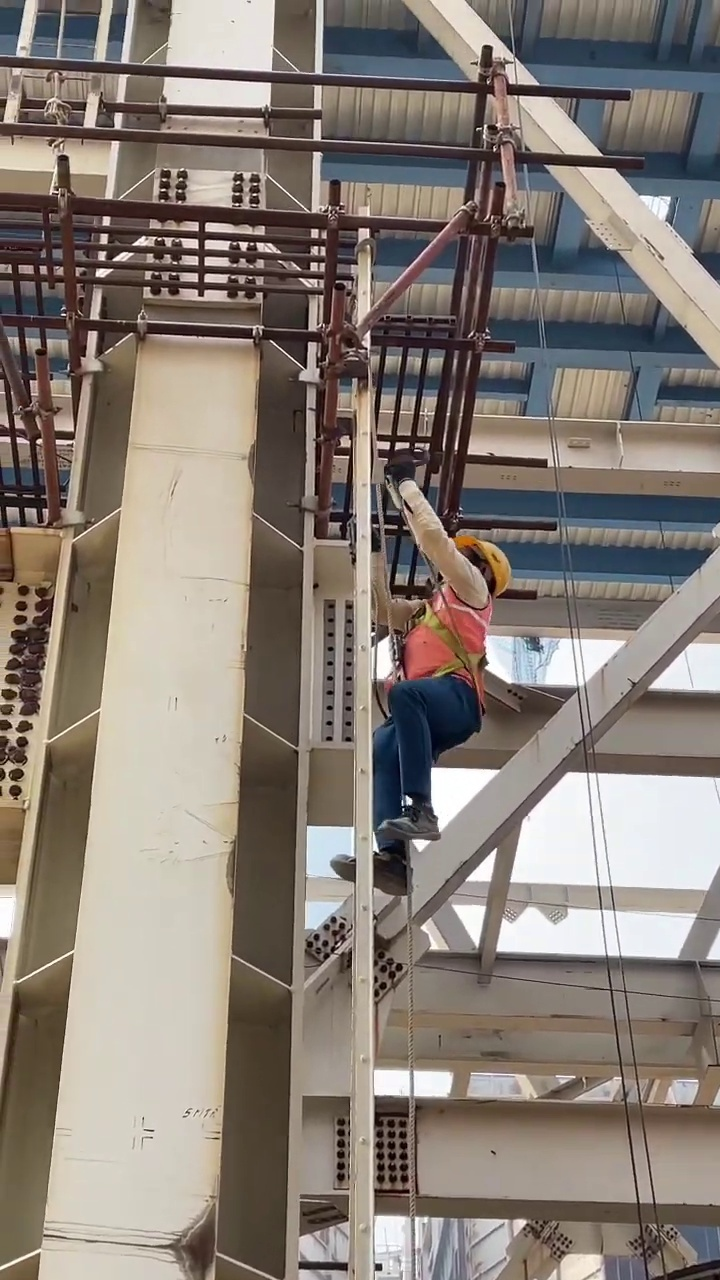Helmet: (451, 534, 512, 596)
Person: (304, 532, 511, 897)
Safety_Harness: (390, 586, 497, 730)
Safety_shoes: (331, 850, 413, 897), (374, 801, 442, 843)
